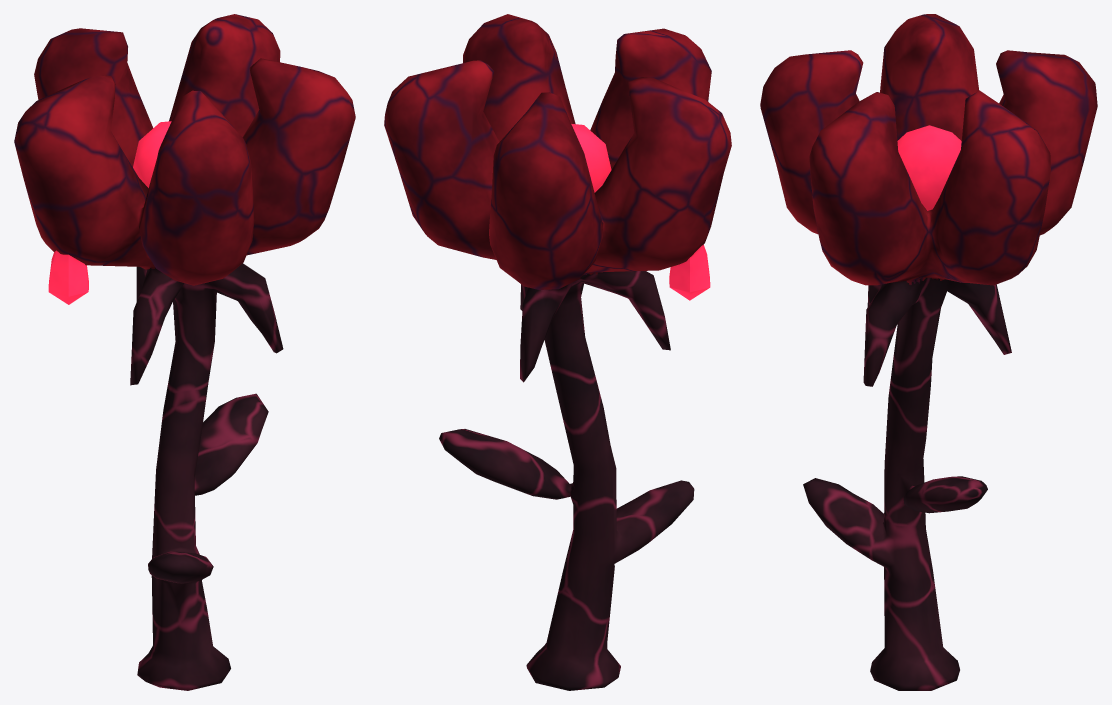
The model's file is flor_sangre.fbx.
3 views of the same model, side by side, from view 1: azimuth 30°, elevation 25°; view 2: azimuth 150°, elevation 25°; view 3: azimuth 270°, elevation 25° (orthographic).
Parts seen in each view (by area): view 1: flor, gota_neon; view 2: flor, gota_neon; view 3: flor, gota_neon.
Boxes of the visible parts, x1,y1,x2,y2 form: flor: [14, 14, 355, 690]; gota_neon: [48, 121, 171, 304]; flor: [384, 14, 731, 690]; gota_neon: [571, 124, 710, 300]; flor: [760, 14, 1097, 690]; gota_neon: [897, 125, 961, 210].
Size of the model in its own units: 0.5027 by 1 by 0.5016.
1 material, 1 textured.
